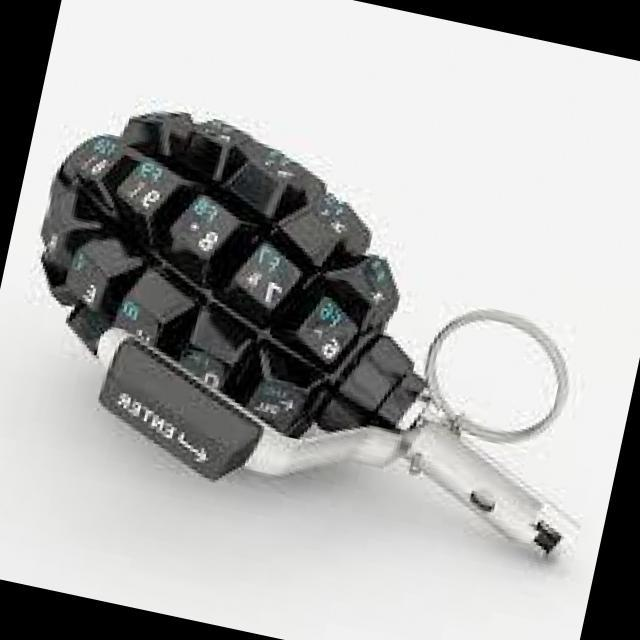grenade: (0, 75, 640, 569)
